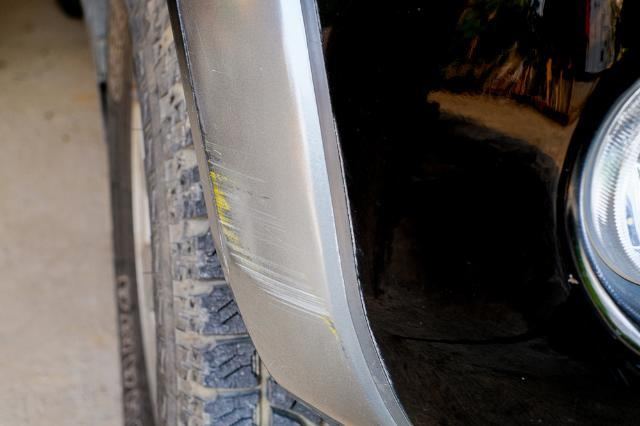scratch: (175, 0, 349, 357)
